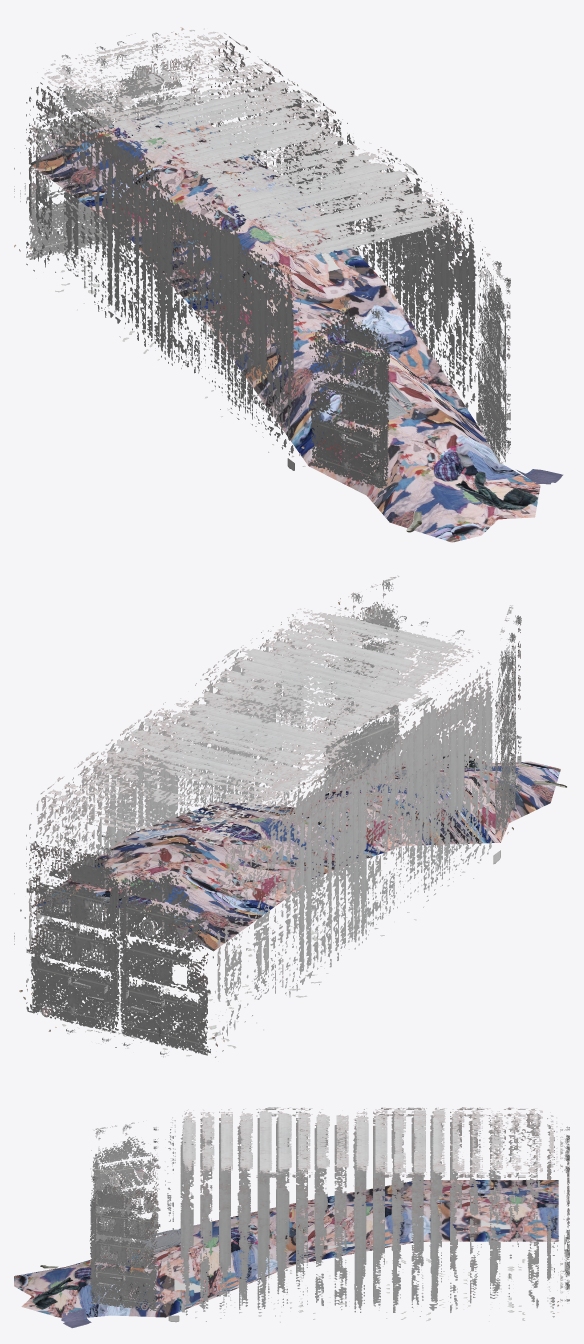
File: Model_Container_04.fbx
3 views of the same model, one above another, from view 1: azimuth 30°, elevation 25°; view 2: azimuth 150°, elevation 25°; view 3: azimuth 270°, elevation 25° (orthographic). The views are drawn at different scales.
Visible parts, largest first — view 1: Container_04_Open_Trash; view 2: Container_04_Open_Trash; view 3: Container_04_Open_Trash.
Boxes of the visible parts, x1,y1,x2,y2 form: Container_04_Open_Trash: (14,27,563,542); Container_04_Open_Trash: (14,575,566,1061); Container_04_Open_Trash: (14,1107,569,1328).
Bounding box in the file's own units: 312 × 304 × 999.
